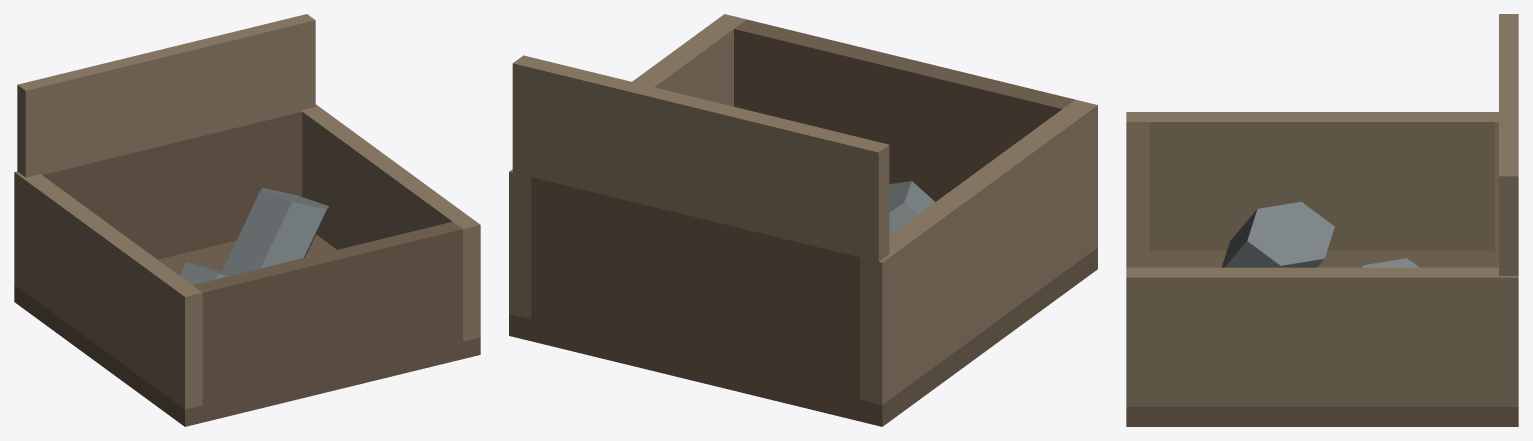
The model's file is part_crate.glb.
The picture shows the model from 3 angles, left to right: view 1: azimuth 30°, elevation 25°; view 2: azimuth 150°, elevation 25°; view 3: azimuth 270°, elevation 25°; orthographic projection. The views are drawn at different scales.
Parts seen in each view (by area): view 1: part_crate; view 2: part_crate; view 3: part_crate.
Boxes of the visible parts, <box> form: part_crate: <box>14,14,480,426</box>; part_crate: <box>509,14,1097,426</box>; part_crate: <box>1126,14,1518,426</box>.
Size of the model in its own units: 1 by 0.7 by 1.
